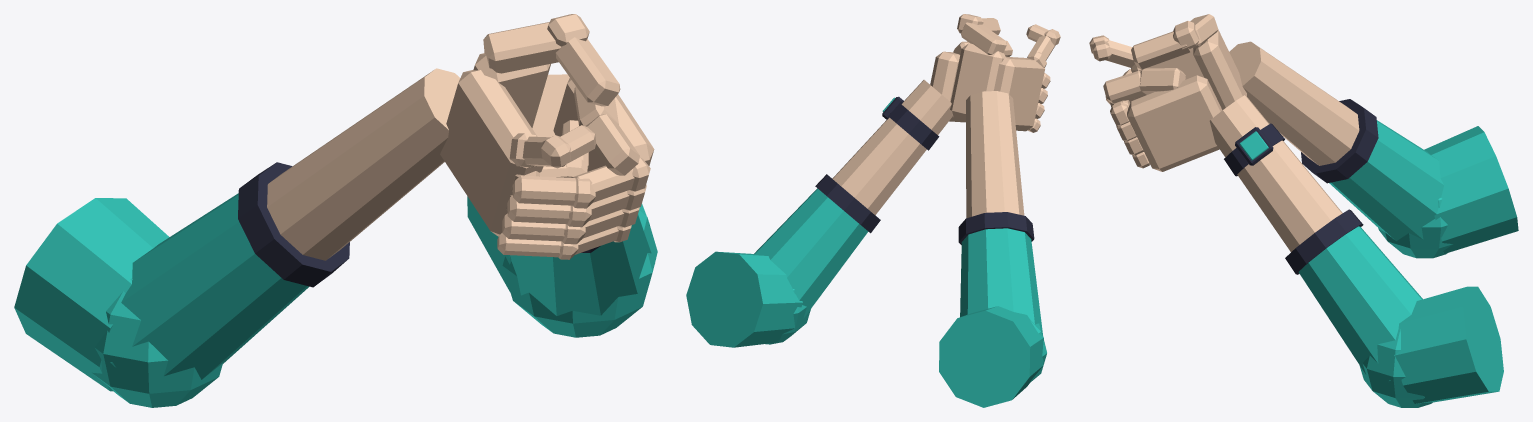
Rendered from Player_Arms_Pistol.fbx.
3 renders of one model, left to right at view 1: azimuth 30°, elevation 25°; view 2: azimuth 150°, elevation 25°; view 3: azimuth 270°, elevation 25°, orthographic. The views are drawn at different scales.
Visible parts, largest first — view 1: Player_Arms_Pistol; view 2: Player_Arms_Pistol; view 3: Player_Arms_Pistol.
Part boxes in pixels (left/top/right/bottom): Player_Arms_Pistol: left=14, top=14, right=657, bottom=407; Player_Arms_Pistol: left=686, top=14, right=1060, bottom=407; Player_Arms_Pistol: left=1089, top=14, right=1518, bottom=407.
Size of the model in its own units: 0.4085 by 0.3133 by 0.3799.
